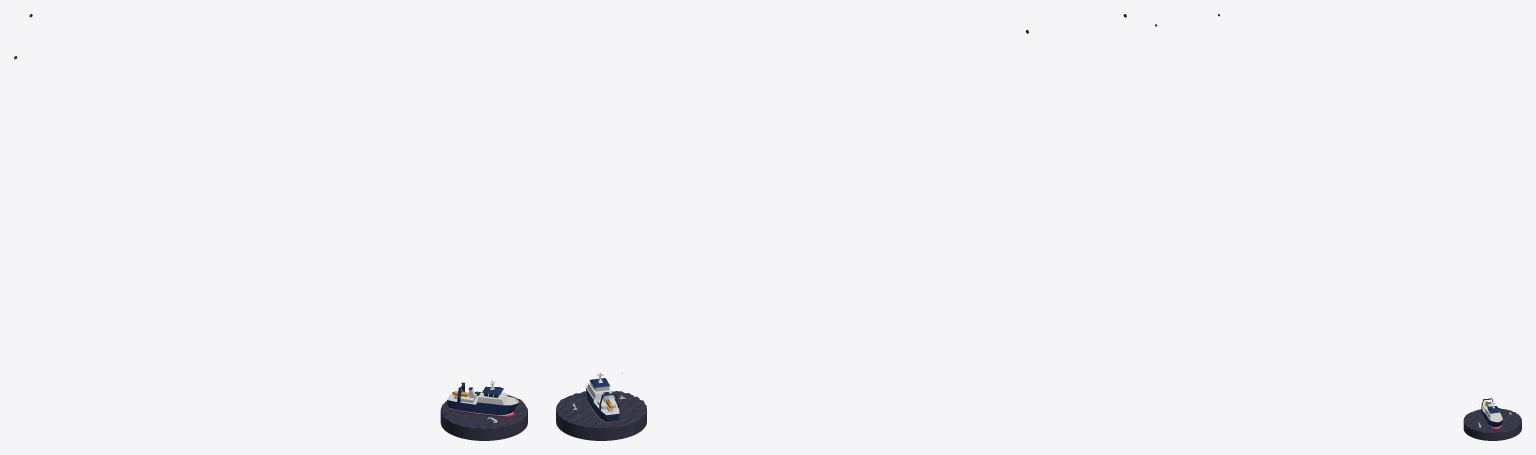
The model's file is ship.fbx.
The picture shows the model from 3 angles, left to right: view 1: azimuth 30°, elevation 25°; view 2: azimuth 150°, elevation 25°; view 3: azimuth 330°, elevation 25°; orthographic projection. The views are drawn at different scales.
Parts seen in each view (by area): view 1: Cube.006, Cube.007, Cube.004; view 2: Cube.006, Cube.004; view 3: Cube.006.
Boxes of the visible parts, bbox=[...] form: Cube.006: bbox=[440, 391, 527, 440]; Cube.007: bbox=[447, 382, 518, 414]; Cube.004: bbox=[447, 380, 518, 415]; Cube.006: bbox=[556, 391, 646, 440]; Cube.004: bbox=[585, 373, 619, 422]; Cube.006: bbox=[1463, 408, 1521, 440].
Bounding box in the file's own units: 2315 × 2096 × 337.
